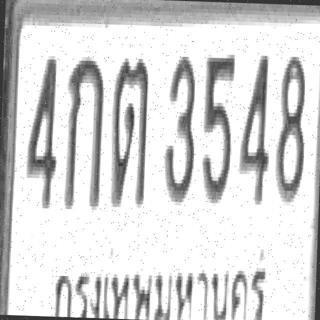A01: (63, 52, 104, 210)
A21: (109, 54, 150, 208)
N03: (162, 52, 197, 202)
N04: (24, 51, 60, 208), (237, 51, 272, 205)
N05: (200, 50, 236, 204)
N08: (274, 52, 307, 202)
P04: (51, 257, 274, 320)
